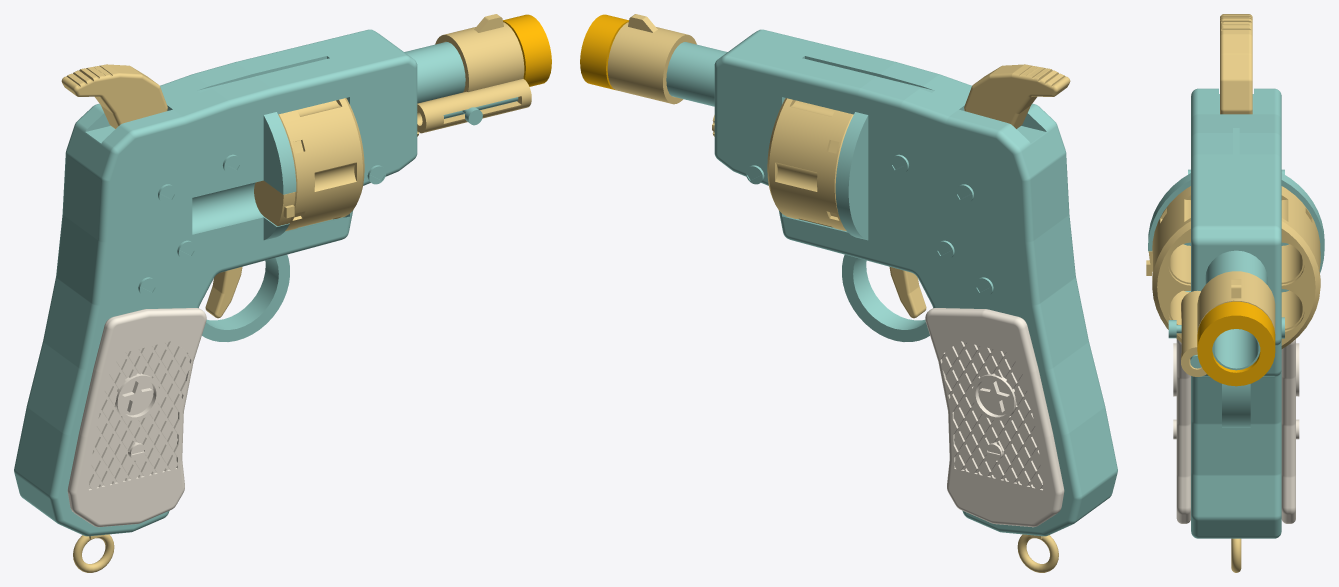
3 views of the same model, side by side, from view 1: azimuth 30°, elevation 25°; view 2: azimuth 150°, elevation 25°; view 3: azimuth 270°, elevation 25° (orthographic). The views are drawn at different scales.
Visible parts, largest first — view 1: telaio, =>[0:1:1:15], =>[0:1:1:3], manicotto, =>[0:1:1:17], =>[0:1:1:10], =>[0:1:1:23], sportello, =>[0:1:1:20], cordino; view 2: telaio, guancia_sx, =>[0:1:1:3], manicotto, =>[0:1:1:17], =>[0:1:1:10], =>[0:1:1:23], =>[0:1:1:20], cordino; view 3: telaio, =>[0:1:1:3], =>[0:1:1:23], manicotto, =>[0:1:1:17], guancia_sx, =>[0:1:1:10], =>[0:1:1:15], cordino, astina.
Part boxes in pixels (bbox=[...]): telaio: bbox=[14, 29, 417, 536]; =>[0:1:1:15]: bbox=[67, 308, 206, 527]; =>[0:1:1:3]: bbox=[278, 98, 364, 231]; manicotto: bbox=[417, 14, 531, 133]; =>[0:1:1:17]: bbox=[61, 64, 167, 128]; =>[0:1:1:10]: bbox=[404, 42, 465, 103]; =>[0:1:1:23]: bbox=[503, 14, 551, 86]; sportello: bbox=[254, 180, 295, 226]; =>[0:1:1:20]: bbox=[205, 266, 242, 318]; cordino: bbox=[73, 534, 114, 572]; telaio: bbox=[714, 29, 1117, 536]; guancia_sx: bbox=[925, 308, 1064, 527]; =>[0:1:1:3]: bbox=[767, 98, 853, 231]; manicotto: bbox=[607, 14, 696, 104]; =>[0:1:1:17]: bbox=[964, 64, 1070, 128]; =>[0:1:1:10]: bbox=[666, 42, 727, 106]; =>[0:1:1:23]: bbox=[580, 14, 628, 89]; =>[0:1:1:20]: bbox=[889, 266, 926, 318]; cordino: bbox=[1017, 534, 1058, 572]; telaio: bbox=[1148, 88, 1324, 538]; =>[0:1:1:3]: bbox=[1152, 186, 1320, 348]; =>[0:1:1:23]: bbox=[1197, 301, 1275, 386]; manicotto: bbox=[1181, 271, 1275, 376]; =>[0:1:1:17]: bbox=[1220, 14, 1252, 114]; guancia_sx: bbox=[1281, 339, 1299, 523]; =>[0:1:1:10]: bbox=[1205, 250, 1267, 370]; =>[0:1:1:15]: bbox=[1173, 339, 1190, 523]; cordino: bbox=[1231, 538, 1241, 572]; astina: bbox=[1168, 320, 1201, 368].
Bounding box in the file's own units: 155 × 147 × 43.38.
